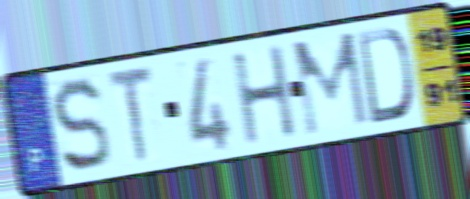4: (186, 53, 233, 154)
D: (355, 26, 416, 127)
H: (228, 42, 299, 148)
M: (290, 28, 372, 141)
S: (49, 75, 113, 177)
T: (105, 62, 156, 168)
